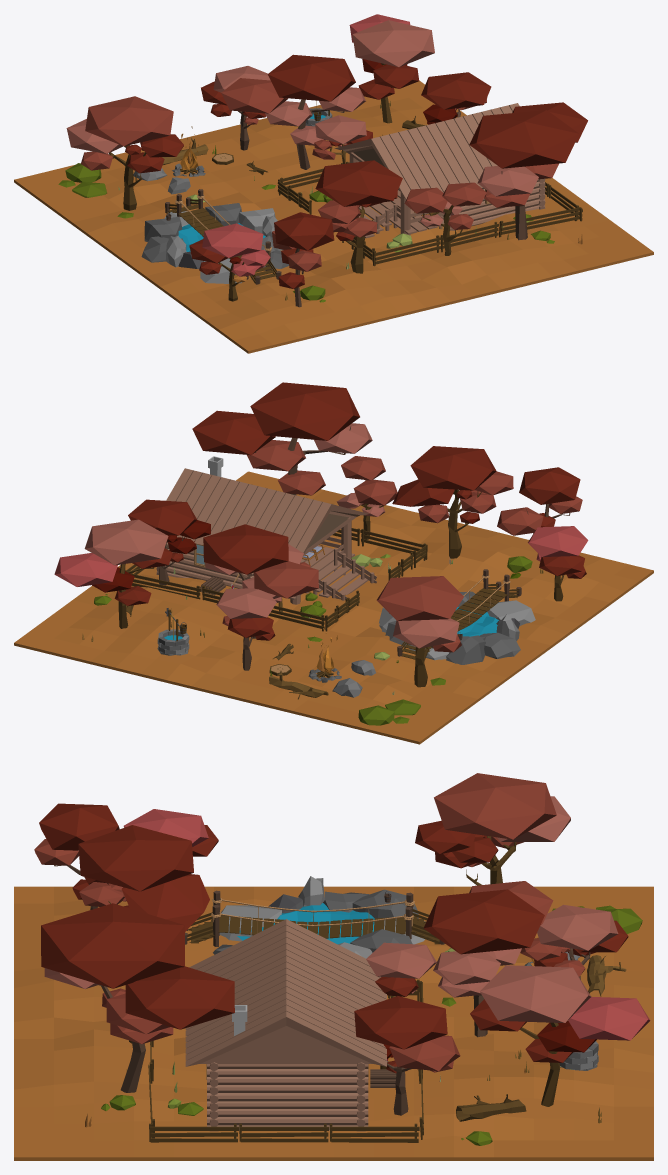
Rendered from Forest.gltf.
The picture shows the model from 3 angles, top to bottom: view 1: azimuth 30°, elevation 25°; view 2: azimuth 150°, elevation 25°; view 3: azimuth 270°, elevation 25°; orthographic projection. The views are drawn at different scales.
Parts seen in each view (by area): view 1: Sxene, Plane, Cylinder.005_Cylinder.001, Cylinder.005_Cylinder.004; view 2: Sxene, Plane, Cylinder.005_Cylinder.001, Cylinder.005_Cylinder.004; view 3: Sxene, Plane, Cylinder.005_Cylinder.001.
Boxes of the visible parts, left/top/right/bottom form: Sxene: left=58, top=14, right=587, bottom=307; Plane: left=14, top=80, right=653, bottom=353; Cylinder.005_Cylinder.001: left=334, top=103, right=545, bottom=238; Cylinder.005_Cylinder.004: left=404, top=182, right=486, bottom=255; Sxene: left=54, top=382, right=588, bottom=725; Plane: left=14, top=471, right=653, bottom=744; Cylinder.005_Cylinder.001: left=156, top=456, right=376, bottom=604; Cylinder.005_Cylinder.004: left=336, top=456, right=397, bottom=539; Sxene: left=34, top=773, right=650, bottom=1145; Plane: left=14, top=886, right=653, bottom=1160; Cylinder.005_Cylinder.001: left=185, top=919, right=386, bottom=1131.
Size of what is drawn, in the model's own units: 30 by 10.21 by 30.
Materials: 1 (1 with a texture image).
